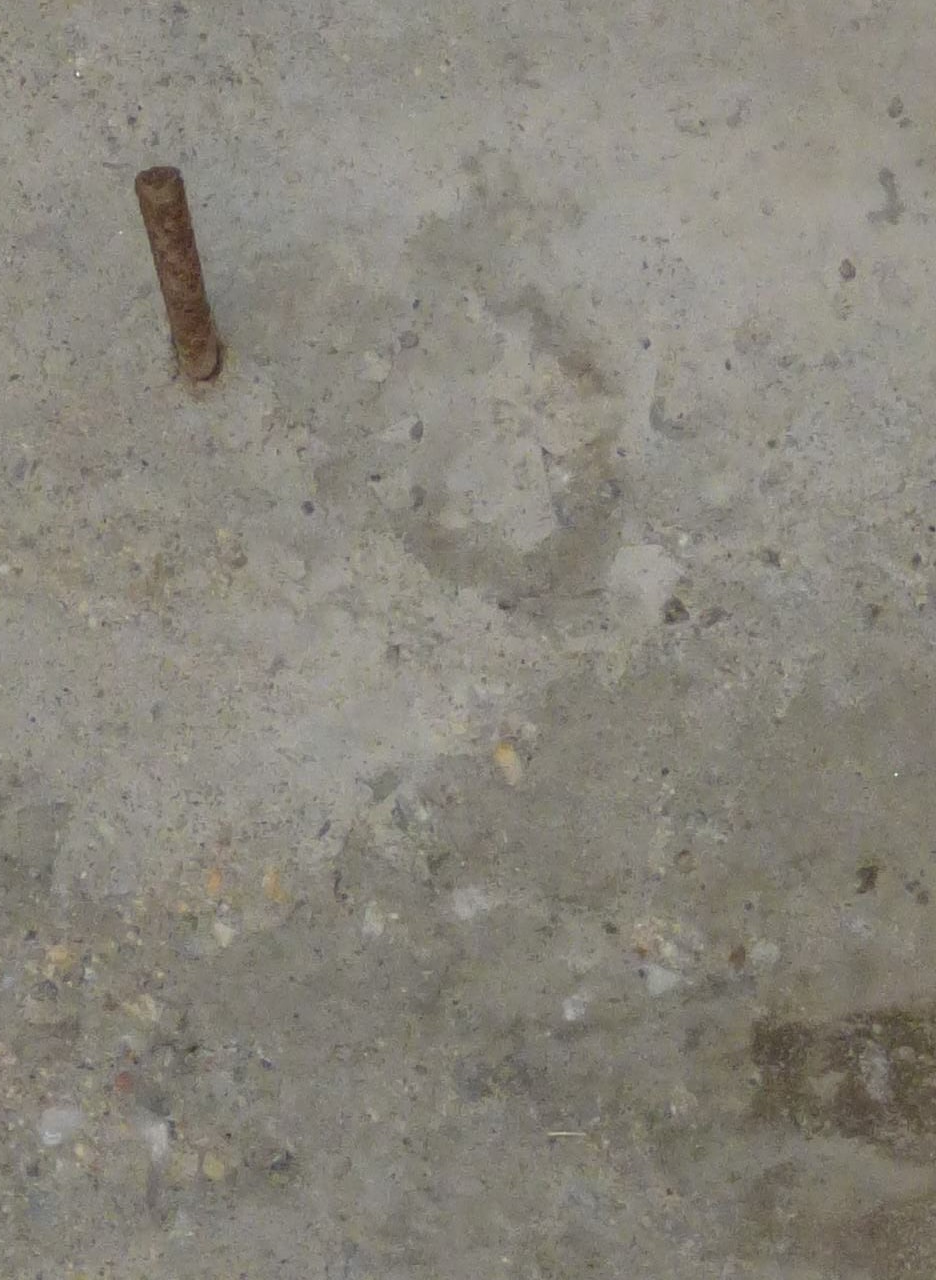Exposed reinforcement: (133, 166, 219, 379)
